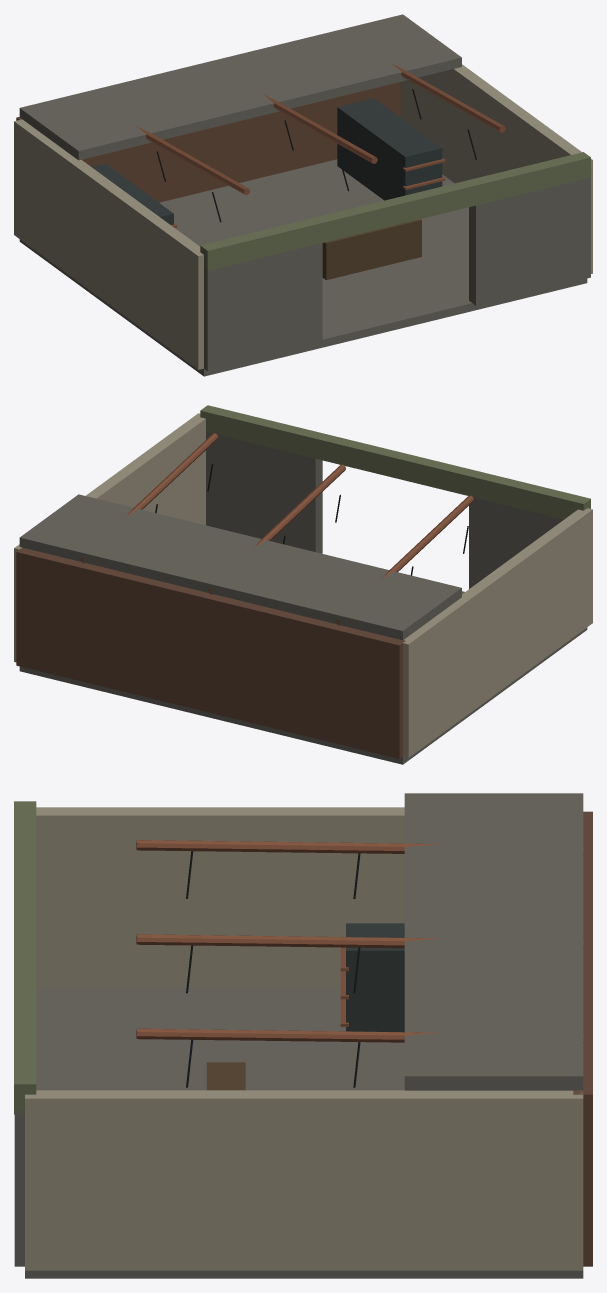
Rendered from ruin_store.glb.
3 views of the same model, one above another, from view 1: azimuth 30°, elevation 25°; view 2: azimuth 150°, elevation 25°; view 3: azimuth 270°, elevation 25° (orthographic). The views are drawn at different scales.
Visible parts, largest first — view 1: roof_back, WALL_sides, FLOOR_ground.001, WALL_rear, WALL_shopfront.001, WALL_shopfront, WALL_sides.001, WALL_sign_header, WALL_shelving.001, WALL_counter.001, WALL_shelving, buckled_roof_beam.002 (+2 smaller); view 2: WALL_rear, roof_back, WALL_sides, WALL_sign_header, WALL_shopfront.001, WALL_sides.001, WALL_shopfront, FLOOR_ground.001, buckled_roof_beam.001, buckled_roof_beam.002, buckled_roof_beam; view 3: WALL_sides.001, WALL_sides, roof_back, FLOOR_ground.001, WALL_sign_header, WALL_shelving, WALL_rear, buckled_roof_beam.002, buckled_roof_beam.001, buckled_roof_beam, WALL_shopfront.001, WALL_counter.001.
Part boxes in pixels (box(x1,y1,x2,y2)): roof_back: box(19, 14, 461, 160); WALL_sides: box(14, 119, 203, 369); FLOOR_ground.001: box(19, 159, 587, 376); WALL_rear: box(16, 82, 400, 202); WALL_shopfront.001: box(469, 177, 590, 305); WALL_shopfront: box(204, 243, 322, 370); WALL_sides.001: box(400, 64, 592, 273); WALL_sign_header: box(200, 152, 590, 270); WALL_shelving.001: box(337, 98, 442, 200); WALL_counter.001: box(322, 219, 421, 280); WALL_shelving: box(92, 163, 173, 225); buckled_roof_beam.002: box(391, 63, 505, 132); WALL_rear: box(16, 547, 405, 758); roof_back: box(19, 494, 461, 640); WALL_sides: box(403, 508, 592, 757); WALL_sign_header: box(200, 405, 590, 519); WALL_shopfront.001: box(206, 432, 322, 553); WALL_sides.001: box(14, 413, 205, 662); WALL_shopfront: box(469, 497, 563, 588); FLOOR_ground.001: box(19, 591, 587, 764); buckled_roof_beam.001: box(208, 464, 345, 594); buckled_roof_beam.002: box(80, 433, 218, 563); buckled_roof_beam: box(336, 495, 473, 625); WALL_sides.001: box(25, 1090, 583, 1270); WALL_sides: box(36, 807, 404, 987); roof_back: box(404, 793, 583, 1090); FLOOR_ground.001: box(25, 987, 583, 1278); WALL_sign_header: box(14, 801, 36, 1114); WALL_shelving: box(346, 923, 404, 1032); WALL_rear: box(573, 811, 592, 1266); buckled_roof_beam.002: box(136, 1028, 583, 1042); buckled_roof_beam.001: box(136, 934, 583, 948); buckled_roof_beam: box(136, 840, 583, 853); WALL_shopfront.001: box(14, 1109, 24, 1266); WALL_counter.001: box(206, 1062, 245, 1090).
Size of the model in its own units: 12.35 by 4.24 by 10.38.
